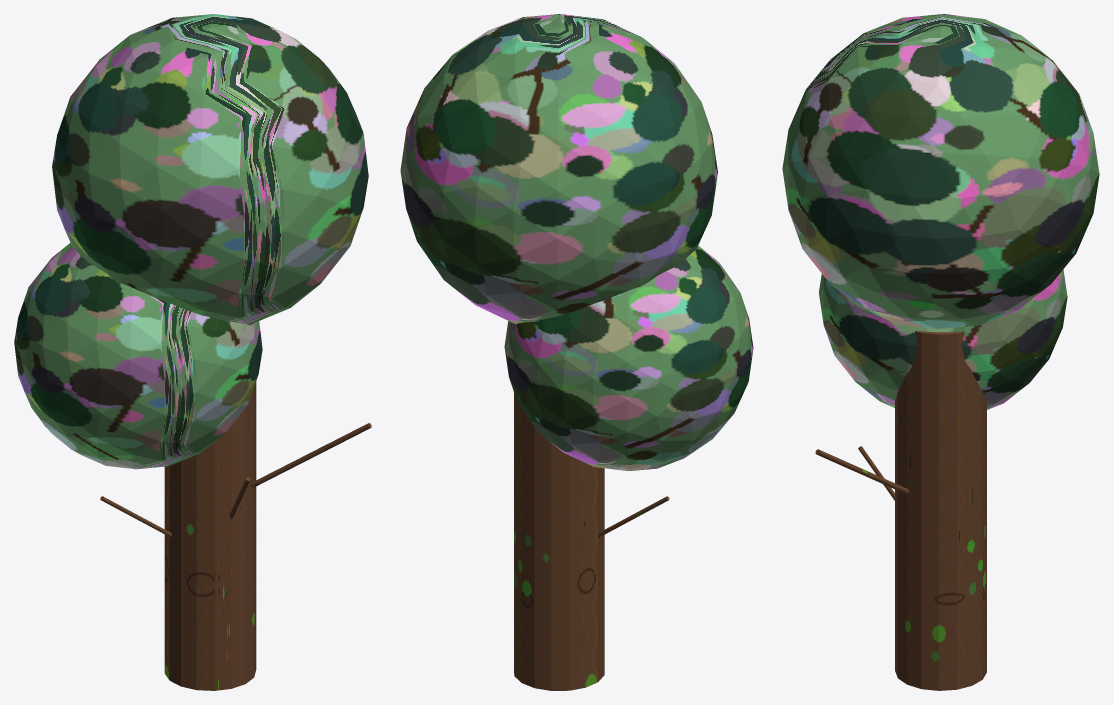
The model's file is tree_3.glb.
The picture shows the model from 3 angles, left to right: view 1: azimuth 30°, elevation 25°; view 2: azimuth 150°, elevation 25°; view 3: azimuth 270°, elevation 25°; orthographic projection.
Parts seen in each view (by area): view 1: tree_3_crown0, tree_3_crown1, tree_3_trunk, tree_3_branch3; view 2: tree_3_crown0, tree_3_crown1, tree_3_trunk; view 3: tree_3_crown0, tree_3_trunk, tree_3_crown1, tree_3_branch3.
Part boxes in pixels (x1=…): tree_3_crown0: x1=52, y1=14, x2=368, y2=324; tree_3_crown1: x1=14, y1=243, x2=262, y2=469; tree_3_trunk: x1=164, y1=381, x2=256, y2=690; tree_3_branch3: x1=253, y1=423, x2=371, y2=487; tree_3_crown0: x1=400, y1=14, x2=717, y2=323; tree_3_crown1: x1=504, y1=246, x2=753, y2=470; tree_3_trunk: x1=514, y1=393, x2=604, y2=690; tree_3_crown0: x1=782, y1=14, x2=1099, y2=329; tree_3_trunk: x1=895, y1=331, x2=986, y2=690; tree_3_crown1: x1=819, y1=269, x2=1067, y2=409; tree_3_branch3: x1=815, y1=449, x2=909, y2=494.
Size of the model in its own units: 1.45 by 2.82 by 1.26.
Materials: 9 (9 with a texture image).
